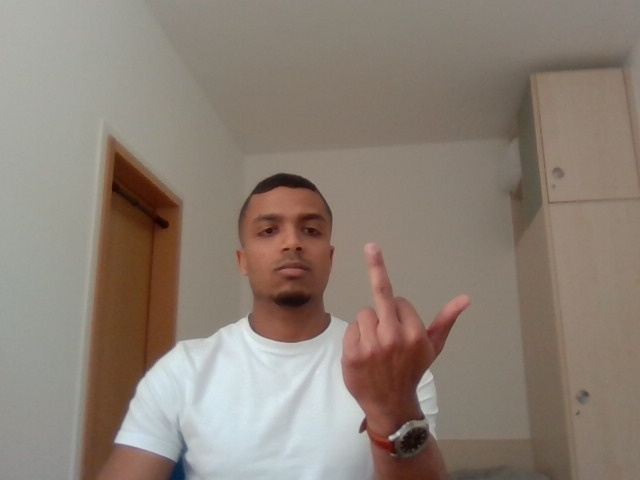fuckyou: (339, 236, 480, 410)
